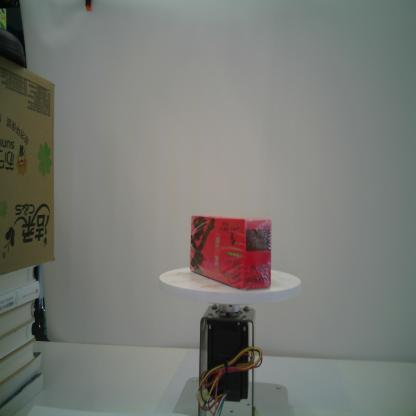Instant Drink: (191, 215, 272, 290)
